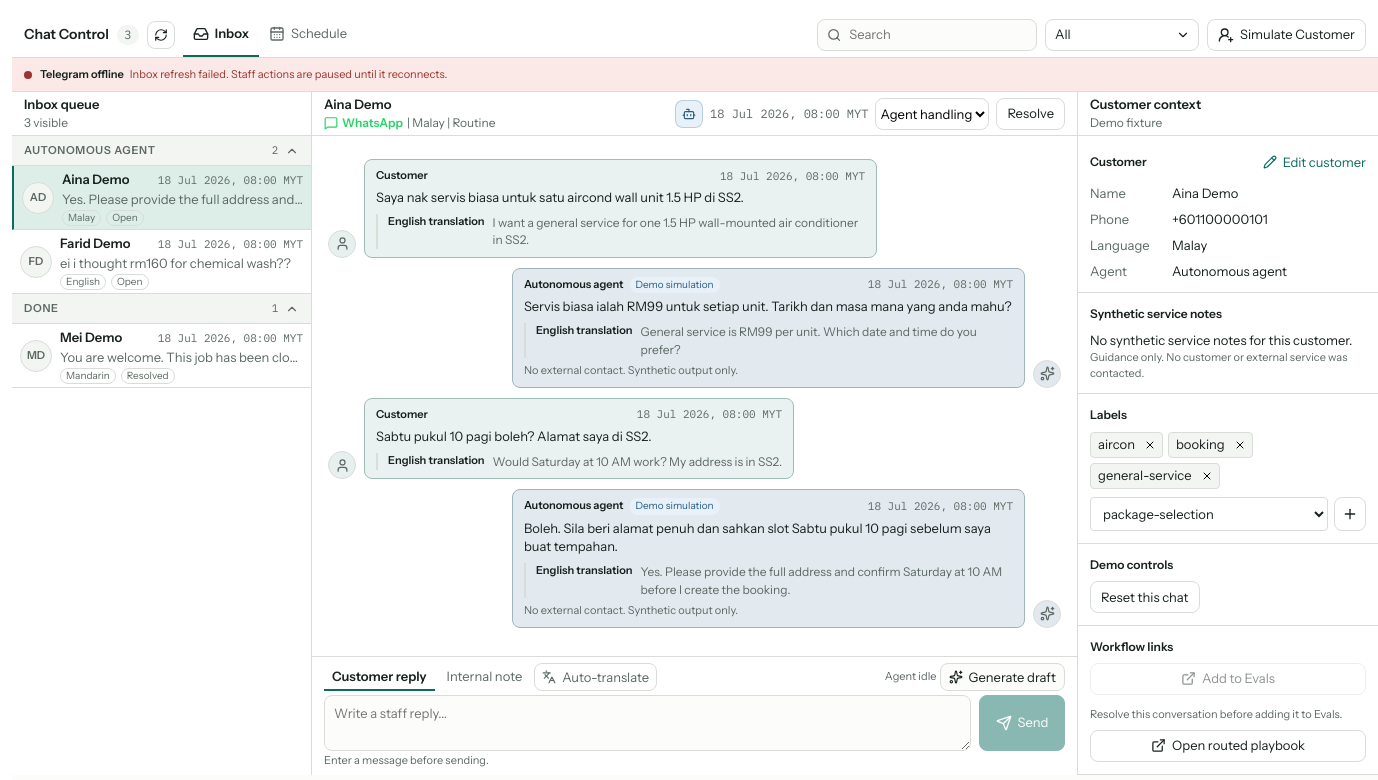
Chat Control route › collapses queue groups without hiding the selected thread
Click the button with aria-label "Autonomous agent, 2 conversations". click: (90, 150)
box: [12,136,311,166]
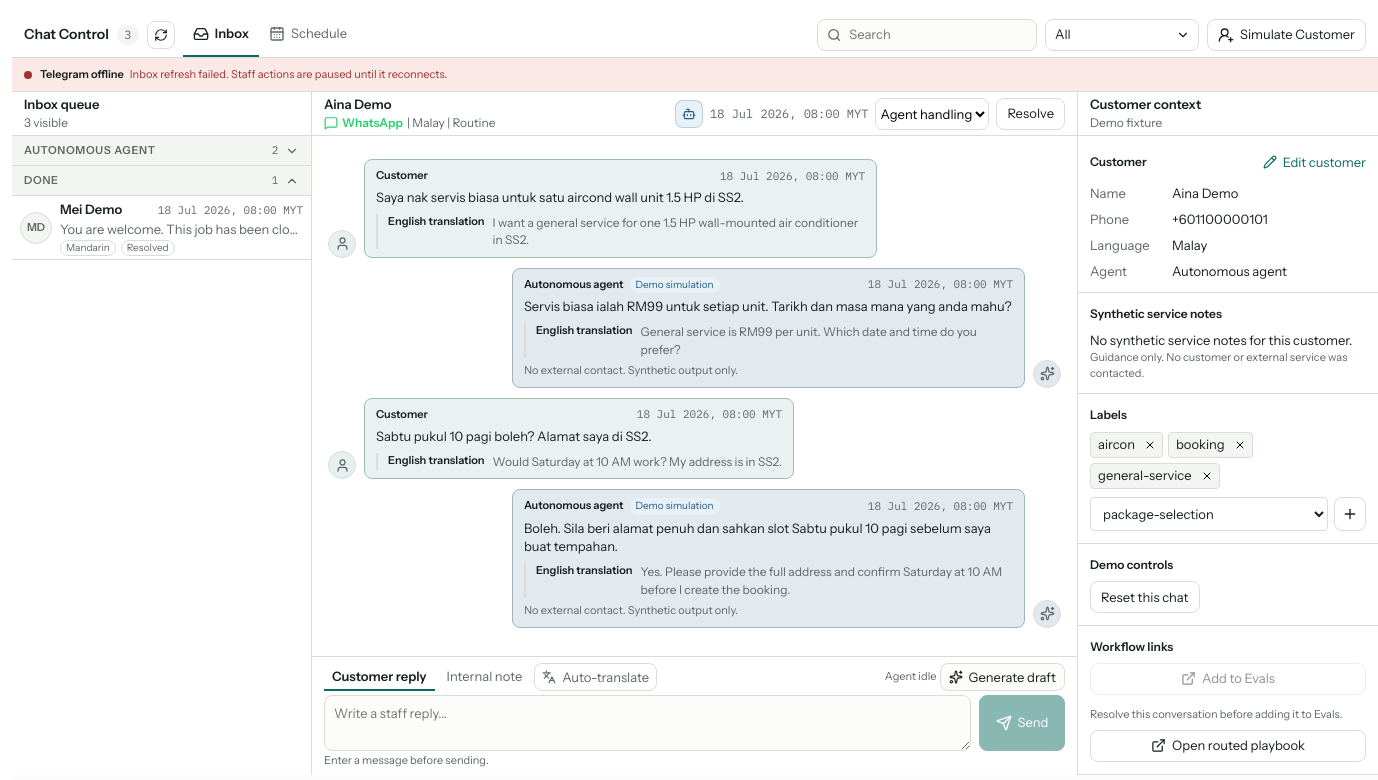
Expected: the element named "Selected conversation" shows "Aina Demo", [324,96,391,112]
Expected: the button with aria-label "Autonomous agent, 2 conversations" is collapsed, [12,136,311,166]
